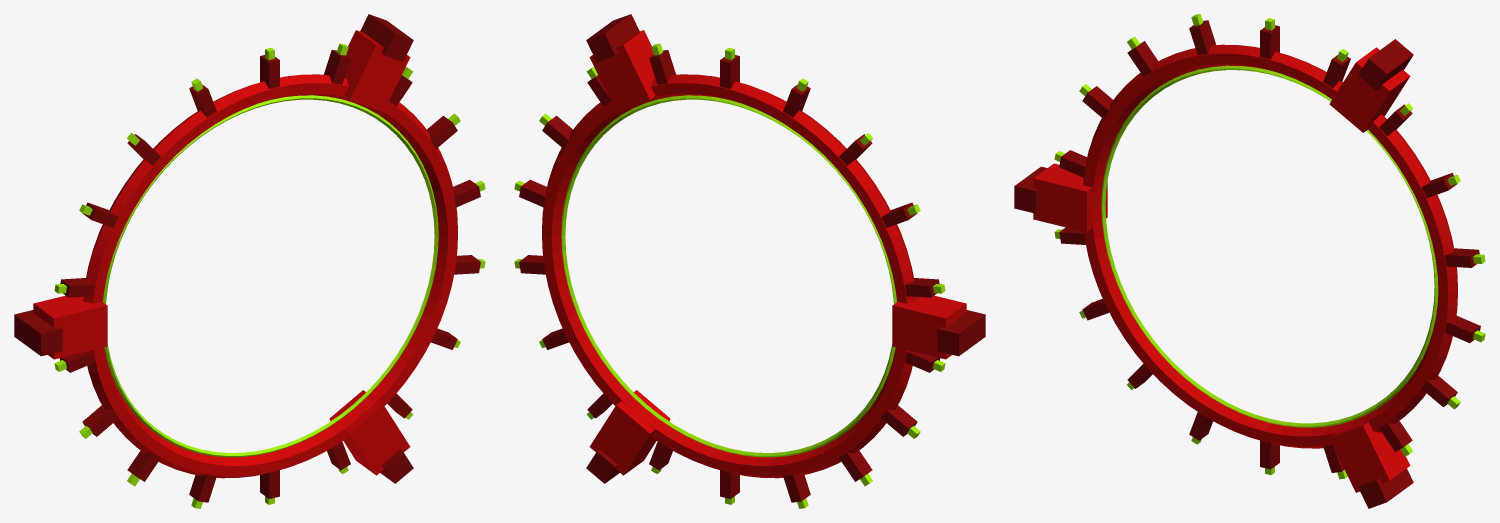
Rendered from aperture.glb.
3 views of the same model, side by side, from view 1: azimuth 30°, elevation 25°; view 2: azimuth 150°, elevation 25°; view 3: azimuth 330°, elevation 25° (orthographic).
Parts seen in each view (by area): view 1: aperture; view 2: aperture; view 3: aperture.
Part boxes in pixels (bbox=[...]): aperture: bbox=[14, 14, 485, 508]; aperture: bbox=[514, 14, 985, 508]; aperture: bbox=[1014, 14, 1485, 508].
Size of the model in its own units: 2.56 by 2.43 by 0.26.
